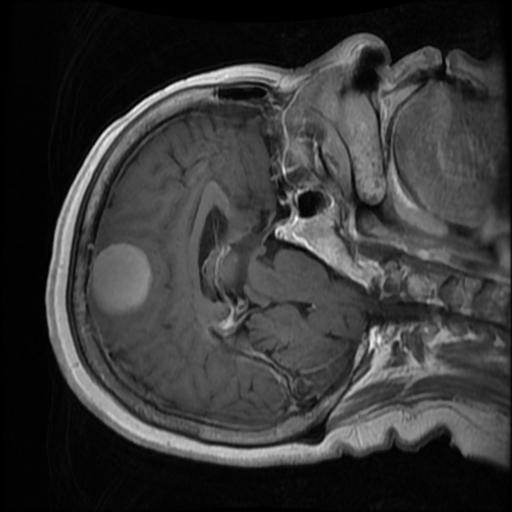meningioma: (92, 243, 151, 315)
